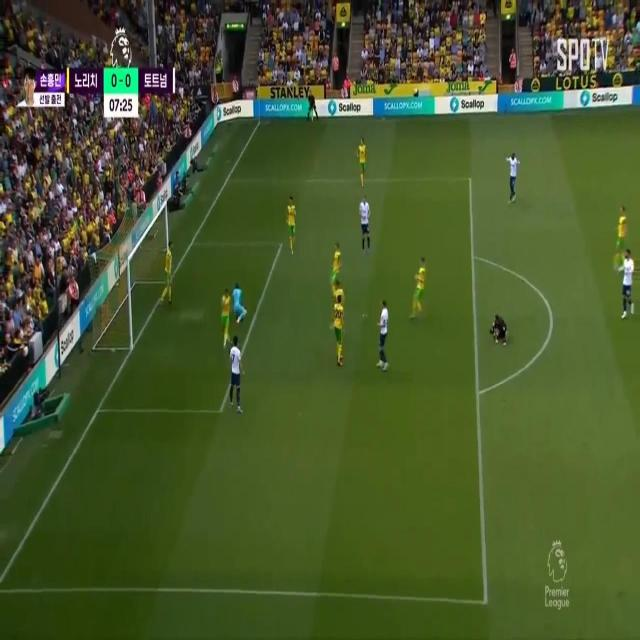player: (612, 198, 634, 272), (329, 296, 350, 363), (620, 250, 640, 320), (228, 332, 244, 414), (373, 298, 392, 367), (412, 254, 428, 324), (357, 190, 373, 249), (287, 184, 297, 260), (508, 147, 520, 209), (330, 233, 342, 294), (220, 284, 232, 342), (333, 270, 345, 323), (164, 233, 173, 295), (358, 133, 368, 182)
referee: (491, 312, 516, 347)
